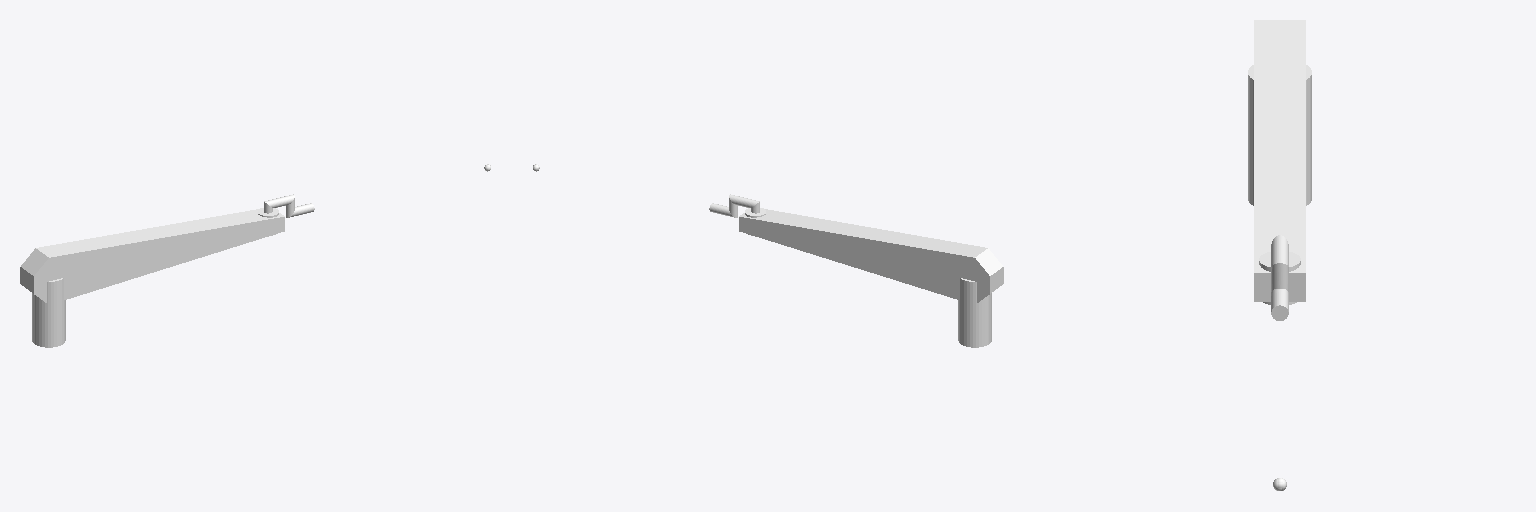
URDF robot description (robot):
<?xml version="1.0"?>
<robot name="robot">

  <!-- Links -->

  <link name="world" />

  <link name="shoulder">
    <visual>
      <geometry>
        <mesh filename="package://basic_velocity_control/description/models/shoulder.stl" />
      </geometry>
      <material name="aluminum">
        <color rgba="1 1 1 1" />
      </material>
    </visual>
    <collision>
      <geometry>
        <mesh filename="package://basic_velocity_control/description/models/shoulder.stl" />
      </geometry>
    </collision>
    <inertial>
      <origin
        rpy="0 0 0"
        xyz="0 -0.500 0"
      />
      <mass value="445.83607510" />
      <inertia
        ixx="43.01142466"
        ixy="0.00000007"
        ixz="0.00000003"
        iyy="11.71683688"
        iyz="-0.00000154"
        izz="43.01142473"
      />
    </inertial>
  </link>

  <link name="upperarm">
    <visual>
      <geometry>
        <mesh filename="package://basic_velocity_control/description/models/upperarm.stl" />
      </geometry>
      <material name="aluminum">
        <color rgba="1 1 1 1" />
      </material>
    </visual>
    <collision>
      <geometry>
        <mesh filename="package://basic_velocity_control/description/models/upperarm.stl" />
      </geometry>
    </collision>
    <inertial>
      <origin
        rpy="0 0 0"
        xyz="1.34345613 0 0"
      />
      <mass value="1897.69177373" />
      <inertia
        ixx="66.99460092"
        ixy="0.00000001"
        ixz="0.00000001"
        iyy="2234.31516869"
        iyz="-0.00000152"
        izz="2258.25308259"
      />
    </inertial>
  </link>

  <link name="forearm">
    <visual>
      <geometry>
        <mesh filename="package://basic_velocity_control/description/models/forearm.stl" />
      </geometry>
      <material name="aluminum">
        <color rgba="1 1 1 1" />
      </material>
    </visual>
    <collision>
      <geometry>
        <mesh filename="package://basic_velocity_control/description/models/forearm.stl" />
      </geometry>
    </collision>
    <inertial>
      <origin
        rpy="0 0 0"
        xyz="1.41553743 0 0"
      />
      <mass value="722.16061394" />
      <inertia
        ixx="9.87773403"
        ixy="0.00000001"
        ixz="0.00000001"
        iyy="801.33982537"
        iyz="0.00000001"
        izz="804.66073917"
      />
    </inertial>
  </link>

  <link name="tool">
    <visual>
      <geometry>
        <sphere radius="0.05"/>
      </geometry>
      <material name="aluminum">
        <color rgba="1 1 1 1" />
      </material>
    </visual>
    <collision>
      <geometry>
        <sphere radius="0.05"/>
      </geometry>
    </collision>
    <inertial>
      <origin
        rpy="0 0 0"
        xyz="0 0 0"
      />
      <mass value="0" />
      <inertia
        ixx="0"
        ixy="0"
        ixz="0"
        iyy="0"
        iyz="0"
        izz="0"
      />
    </inertial>
  </link>

  <!-- Joints -->

  <joint name="shoulder" type="revolute">
    <origin rpy="1.5708 0 0" xyz="0 0 1" />
    <axis xyz="0 1 0" />
    <parent link="world" />
    <child link="shoulder" />
    <limit effort="100" velocity="1.0" lower="-1.5708" upper="1.5708" />
    <dynamics damping="0.7" friction="1.4" />
  </joint>

  <joint name="upperarm" type="revolute">
    <origin rpy="0 0 0" xyz="0 0 0" />
    <axis xyz="0 1 0" />
    <parent link="shoulder" />
    <child link="upperarm" />
    <limit effort="100" velocity="1.0" lower="-1.5708" upper="1.5708" />
    <dynamics damping="0.7" friction="1.4" />
  </joint>

  <joint name="forearm" type="revolute">
    <origin rpy="0 0 0" xyz="3.5 0 0" />
    <axis xyz="0 1 0" />
    <parent link="upperarm" />
    <child link="forearm" />
    <limit effort="100" velocity="1.0" lower="-1.5708" upper="1.5708" />
    <dynamics damping="0.7" friction="1.4" />
  </joint>

  <joint name="wrist" type="fixed">
    <origin rpy="0 0 0" xyz="3.5 0.0 0.0" />
    <parent link="forearm" />
    <child link="tool" />
  </joint>

  <!-- Transmissions -->

  <transmission name="trans_shoulder">
    <type>transmission_interface/SimpleTransmission</type>
    <joint name="shoulder">
      <hardwareInterface>hardware_interface/VelocityJointInterface</hardwareInterface>
    </joint>
    <actuator name="shoulder_motor">
      <mechanicalReduction>1</mechanicalReduction>
    </actuator>
  </transmission>

  <transmission name="trans_upperarm">
    <type>transmission_interface/SimpleTransmission</type>
    <joint name="upperarm">
      <hardwareInterface>hardware_interface/VelocityJointInterface</hardwareInterface>
    </joint>
    <actuator name="upperarm_motor">
      <mechanicalReduction>1</mechanicalReduction>
    </actuator>
  </transmission>

  <transmission name="trans_forearm">
    <type>transmission_interface/SimpleTransmission</type>
    <joint name="forearm">
      <hardwareInterface>hardware_interface/VelocityJointInterface</hardwareInterface>
    </joint>
    <actuator name="forearm_motor">
      <mechanicalReduction>1</mechanicalReduction>
    </actuator>
  </transmission>

  <!-- Plugins -->

  <gazebo>
    <plugin
      name="gazebo_ros_control"
      filename="libgazebo_ros_control.so"
    >
      <robotNamespace>/</robotNamespace>
    </plugin>
  </gazebo>
</robot>

--- Facts derived from the render (not from the file) ---
Views: 3 orthographic renders of the robot side by side, from view 1: azimuth 30°, elevation 25°; view 2: azimuth 150°, elevation 25°; view 3: azimuth 270°, elevation 25°.
Robot: robot — 5 links, 4 joints (3 revolute, 1 fixed); root link world; default pose: every joint at zero.
Visible links, largest first — view 1: upperarm, shoulder, forearm; view 2: upperarm, shoulder, forearm; view 3: upperarm, forearm, shoulder.
Boxes of the visible links, box(x1,y1,x2,y2) form: upperarm: box(20, 209, 284, 302); shoulder: box(32, 278, 65, 347); forearm: box(258, 194, 314, 235); upperarm: box(739, 209, 1003, 302); shoulder: box(958, 278, 991, 347); forearm: box(709, 194, 765, 235); upperarm: box(1254, 20, 1305, 301); forearm: box(1259, 235, 1300, 320); shoulder: box(1248, 65, 1311, 205).
Bounding box of the posed robot: 7.4 × 0.46 × 1.36 m (x, y, z).
3 mesh visuals loaded from 3 distinct referenced files (3 binary STL).